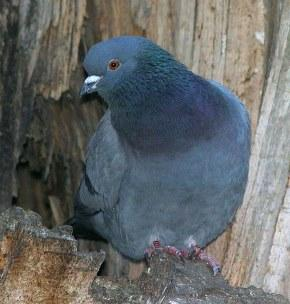Flying Rat: (61, 35, 254, 259)
